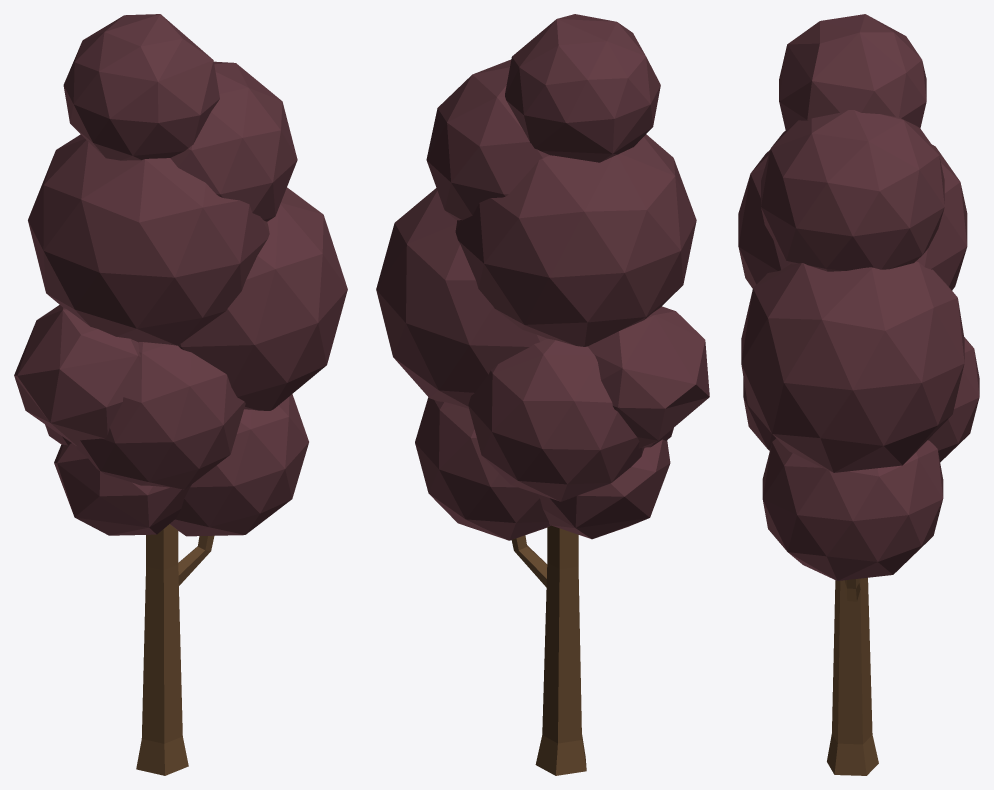
File: tree-oak.fbx
The picture shows the model from 3 angles, left to right: view 1: azimuth 30°, elevation 25°; view 2: azimuth 150°, elevation 25°; view 3: azimuth 270°, elevation 25°; orthographic projection.
Visible parts, largest first — view 1: tree-oak; view 2: tree-oak; view 3: tree-oak.
Part boxes in pixels (bbox=[...]): tree-oak: bbox=[14, 14, 347, 775]; tree-oak: bbox=[376, 14, 709, 775]; tree-oak: bbox=[738, 14, 979, 775].
Bounding box in the file's own units: 4.2 × 9.68 × 2.88.
